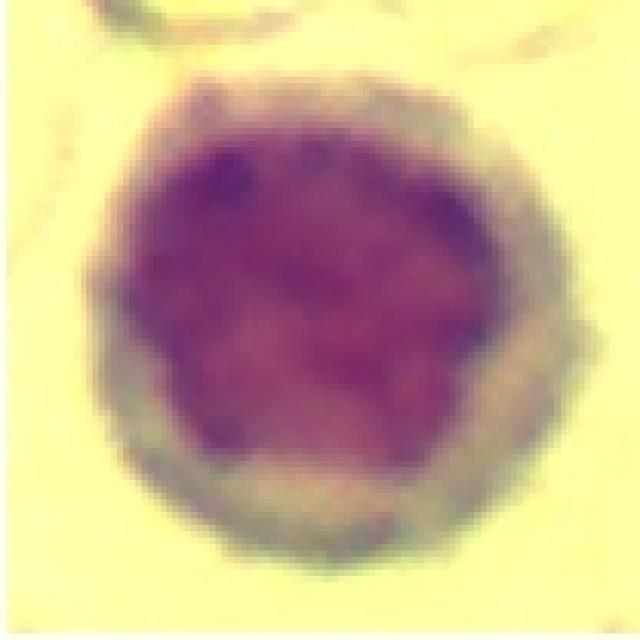WBC: (56, 57, 610, 588)
